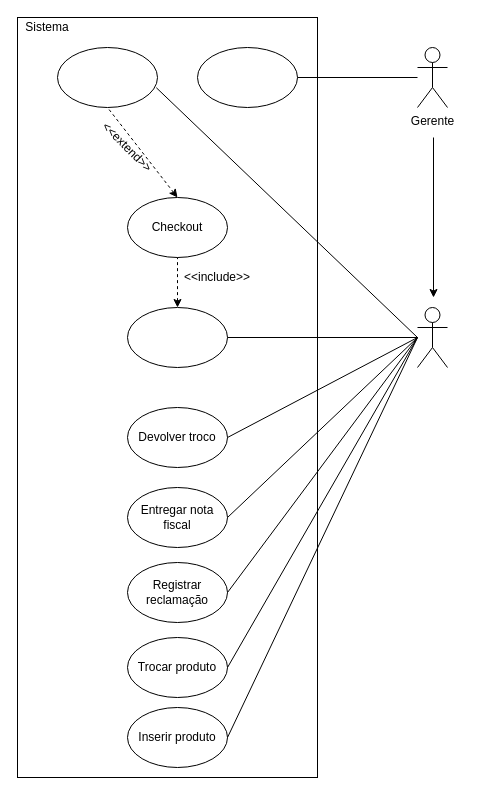
The diagram is 495 pixels wide and 795 high, and some of its shapes have lost their labels. Here are the shapes that lost their labels. From the top down, the centre of each, then its label:
At [107,77]: "Trocar pontos".
At [247,77]: "Cancelar compra".
At [177,337]: "Registrar venda".
At [432,337]: "Vendedor (caixa)".
